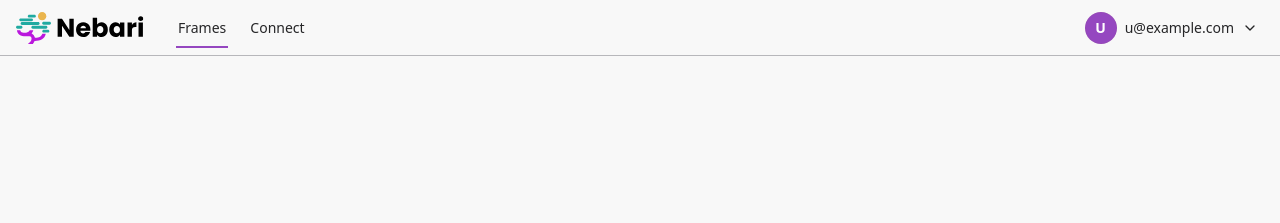
shows the name and a Sign out action when authenticated
This screenshot has width=1280, height=223.
Click the button with aria-label "account menu": (1171, 28) x1=1075 y1=8 x2=1268 y2=48
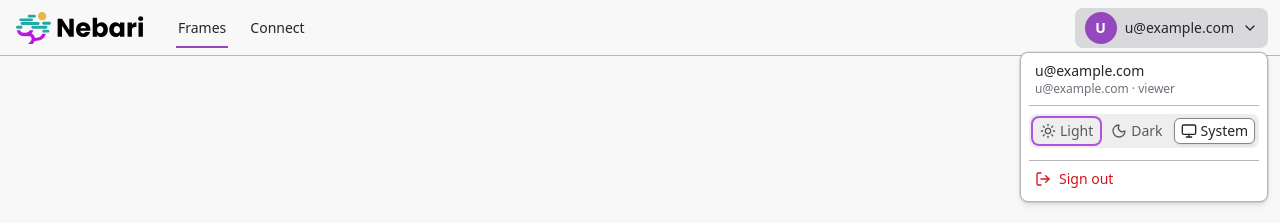
Expected: the menu item "Sign out" is shown, x1=1035 y1=169 x2=1113 y2=188
